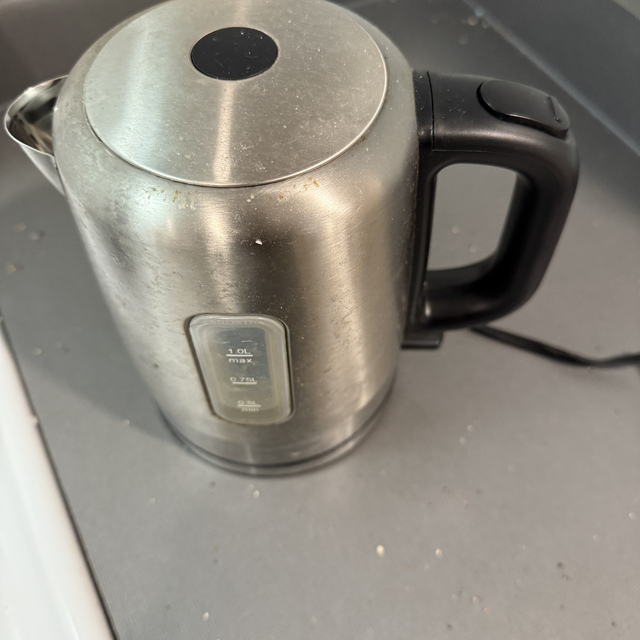Candle: (32, 12, 573, 527)
